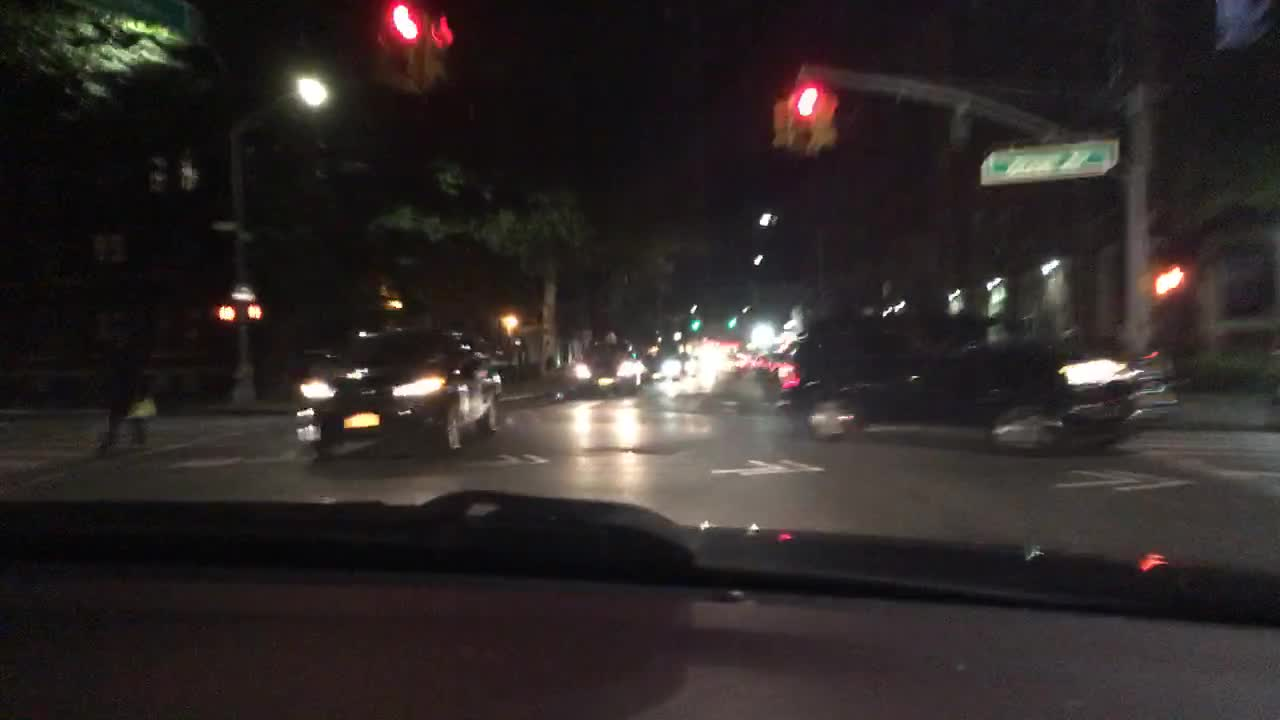car: (777, 283, 1141, 453), (295, 324, 505, 460), (573, 340, 641, 396), (1131, 347, 1179, 422), (663, 352, 697, 375), (722, 349, 753, 371), (639, 353, 664, 380), (760, 351, 785, 377), (698, 351, 722, 368)
person: (92, 319, 157, 454)
traffic light: (388, 1, 418, 86), (422, 13, 452, 86), (792, 88, 819, 155), (815, 86, 839, 147), (771, 94, 788, 147), (1165, 264, 1187, 289), (1155, 270, 1170, 293), (217, 305, 235, 321), (246, 303, 263, 319), (690, 317, 700, 331), (728, 317, 738, 329)
traffic sign: (978, 137, 1119, 183), (229, 282, 255, 300), (209, 220, 235, 232)
